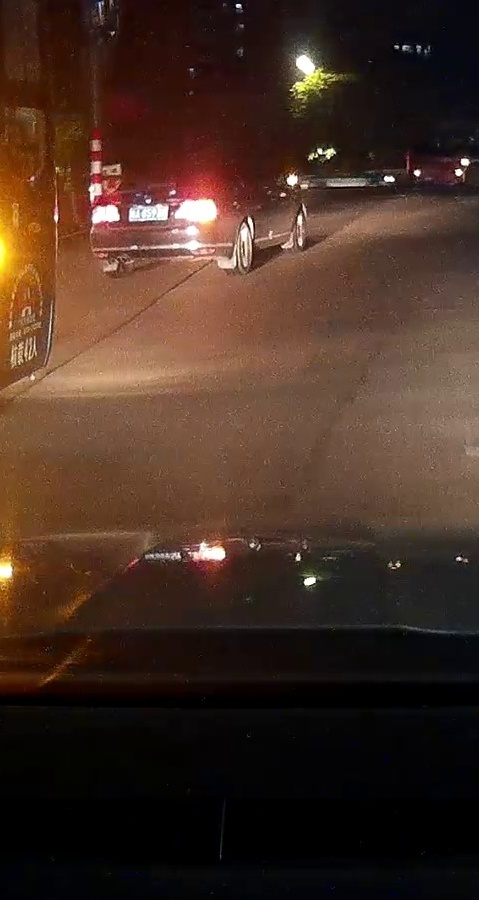L_light: (90, 204, 120, 224)
R_light: (181, 198, 218, 224)
T_light: (157, 162, 176, 167)
night-right: (89, 157, 232, 278)
